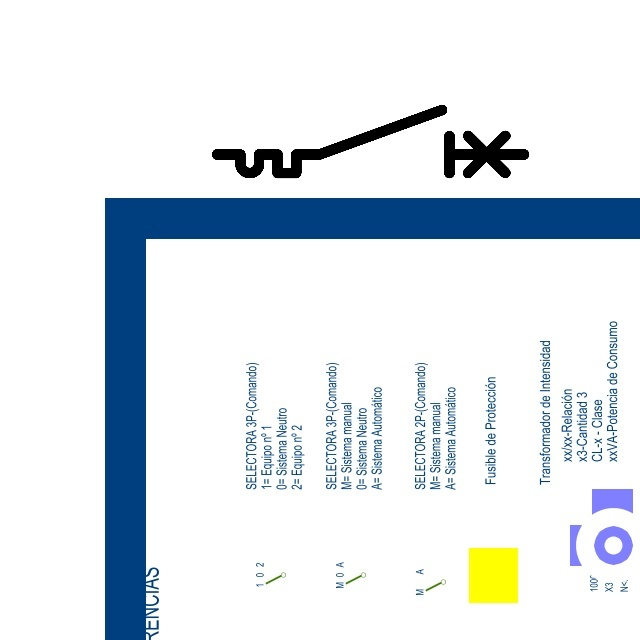interruptor_termomagnetico: (209, 102, 532, 181)
